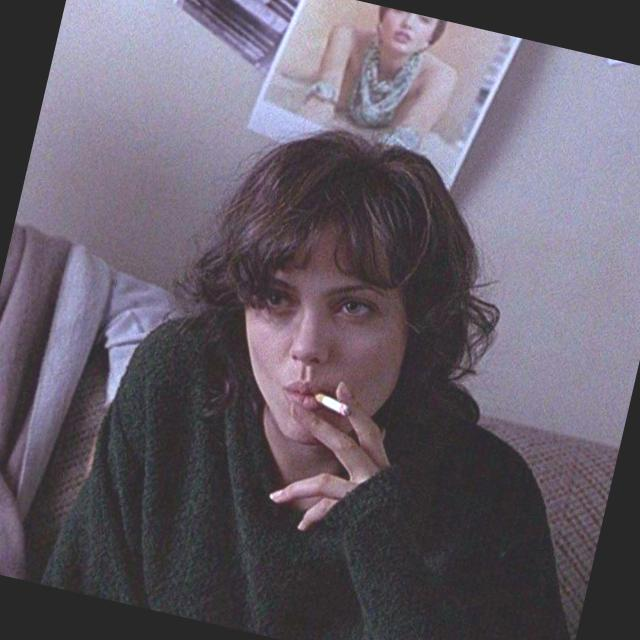cigarette: (306, 384, 364, 426)
